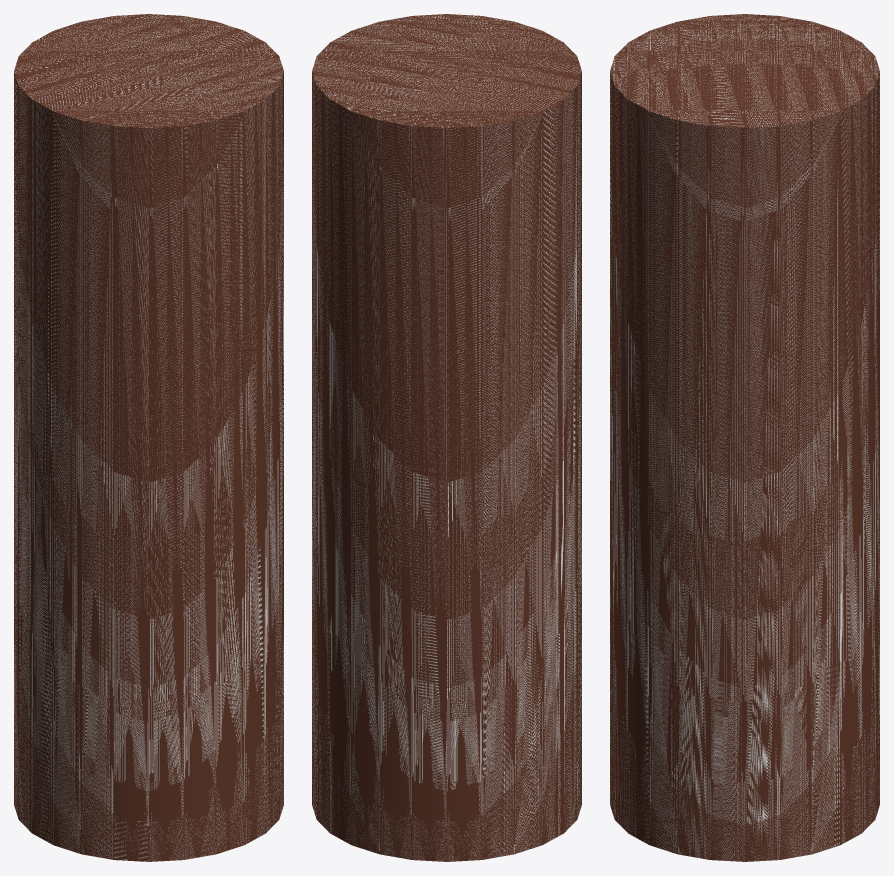
The model's file is original-33.obj.
The picture shows the model from 3 angles, left to right: view 1: azimuth 30°, elevation 25°; view 2: azimuth 150°, elevation 25°; view 3: azimuth 270°, elevation 25°; orthographic projection.
Visible parts, largest first — view 1: Component_8_1/Component_8/mesh17/mesh17-geometry#mesh17-geometry; view 2: Component_8_1/Component_8/mesh17/mesh17-geometry#mesh17-geometry; view 3: Component_8_1/Component_8/mesh17/mesh17-geometry#mesh17-geometry.
Part boxes in pixels (x1,y1,x2,y2): Component_8_1/Component_8/mesh17/mesh17-geometry#mesh17-geometry: [14, 14, 283, 861]; Component_8_1/Component_8/mesh17/mesh17-geometry#mesh17-geometry: [312, 14, 581, 861]; Component_8_1/Component_8/mesh17/mesh17-geometry#mesh17-geometry: [610, 14, 879, 861].
Bounding box in the file's own units: 0.00657 × 0.0197 × 0.00657.
